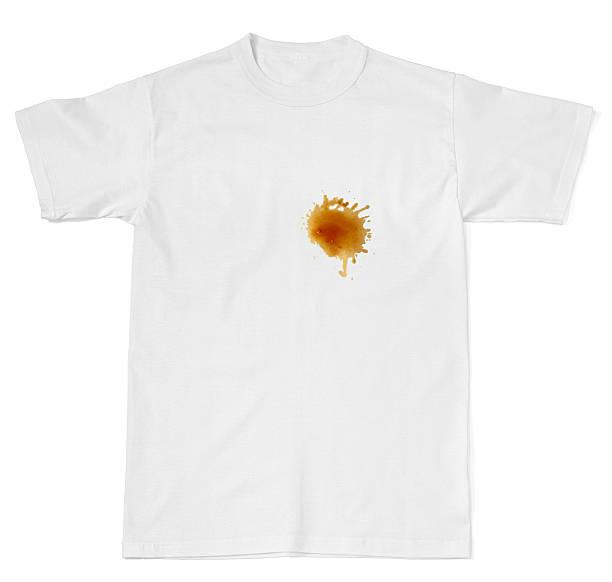gun: (311, 188, 380, 275)
